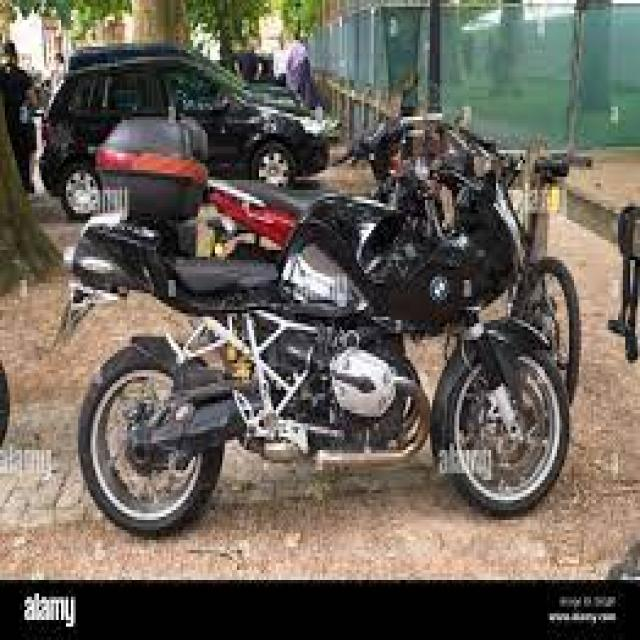Bike: (64, 117, 570, 541)
